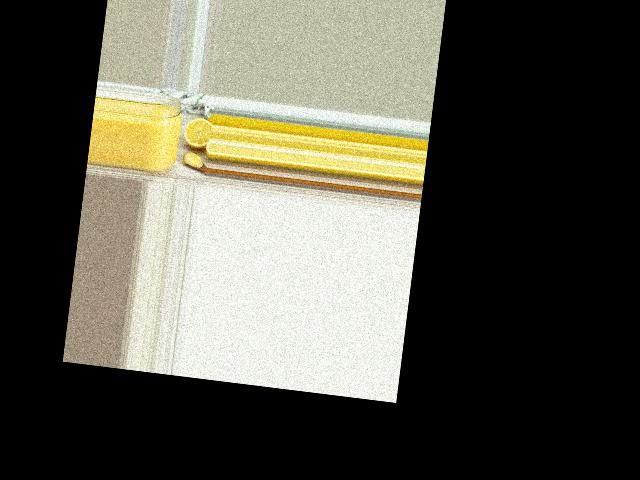lemon: (182, 115, 211, 149)
